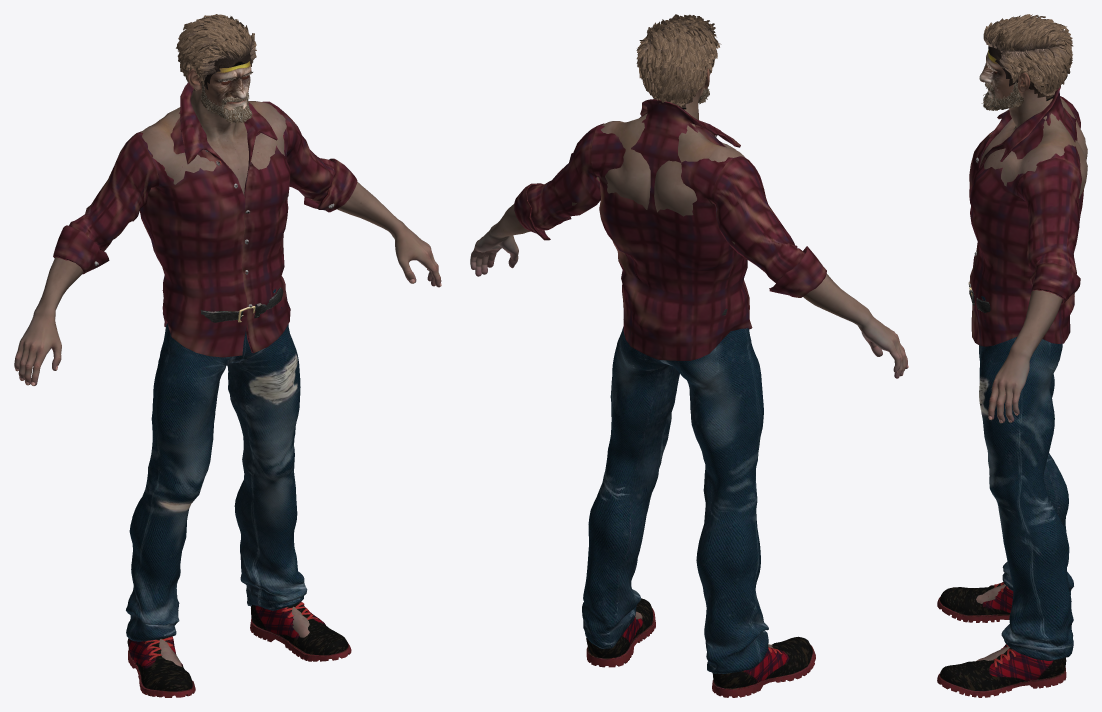
The model's file is human-transformed.glb.
3 views of the same model, side by side, from view 1: azimuth 30°, elevation 25°; view 2: azimuth 150°, elevation 25°; view 3: azimuth 270°, elevation 25° (orthographic). The views are drawn at different scales.
Parts seen in each view (by area): view 1: human; view 2: human; view 3: human.
Part boxes in pixels (box(x1,y1,x2,y2)): human: box(14, 14, 441, 697); human: box(470, 14, 908, 697); human: box(937, 14, 1087, 697).
Bounding box in the file's own units: 125 × 181 × 39.1.
Materials: 22 (22 with a texture image).
